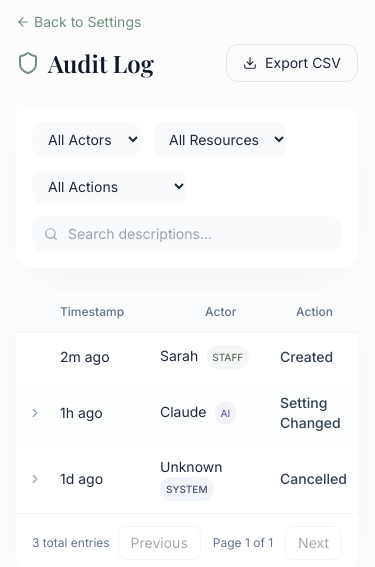
AuditLogPage › actor type filter filters client-side
expect the text "Sarah" is shown: met, box x1=160 y1=347 x2=198 y2=364
Select "AI" in the dropdown with test id "filter-actor-type" at (86, 140), box x1=32 y1=122 x2=141 y2=157
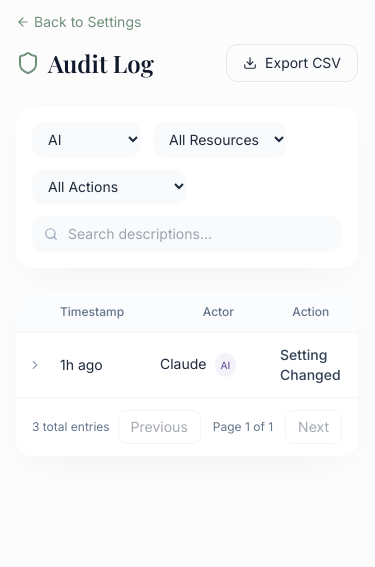
expect the text "Claude" is shown: met, box x1=160 y1=355 x2=206 y2=372
expect the text "Sarah" is gone: met
